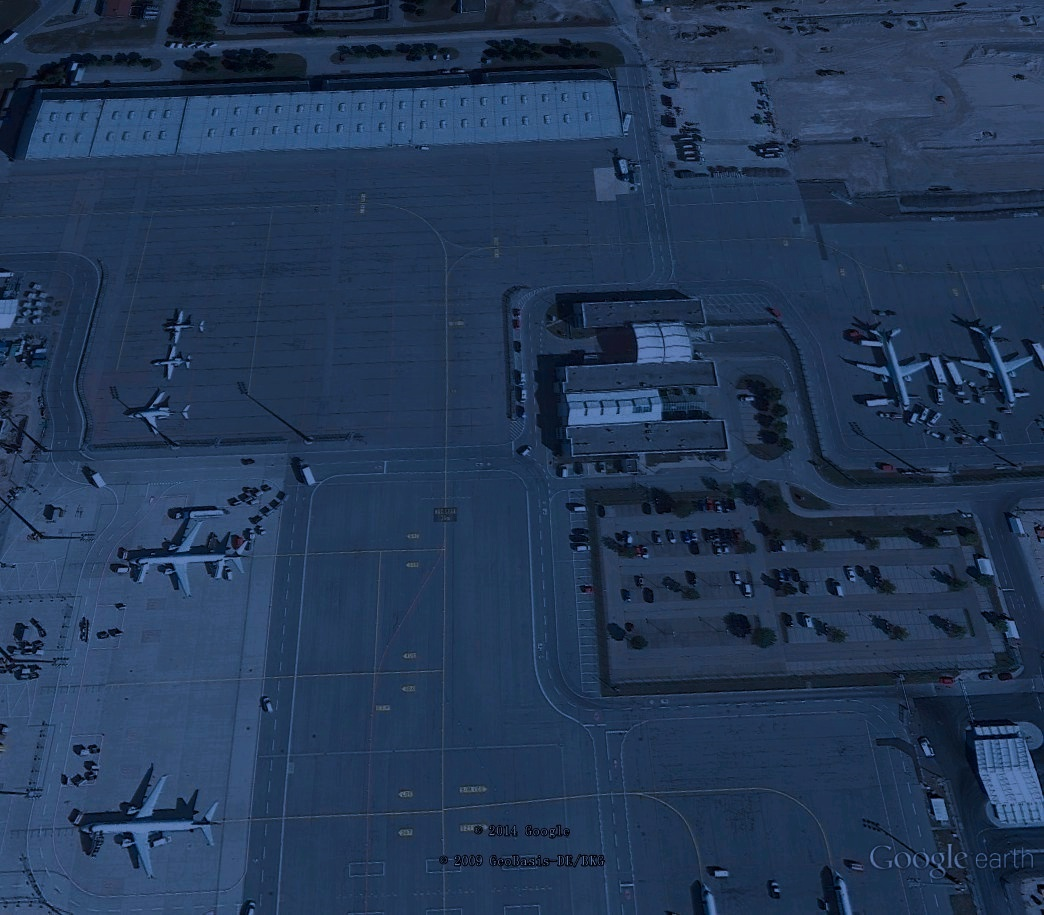aircraft: (78, 769, 225, 883), (123, 516, 253, 601), (849, 318, 937, 418), (945, 318, 1036, 412), (123, 388, 195, 441), (150, 343, 196, 385), (162, 306, 208, 345)
